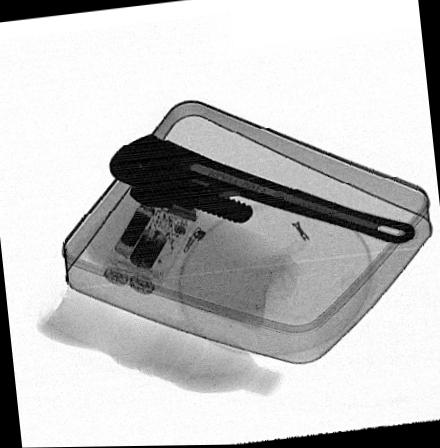Wrench: (107, 131, 418, 247)
